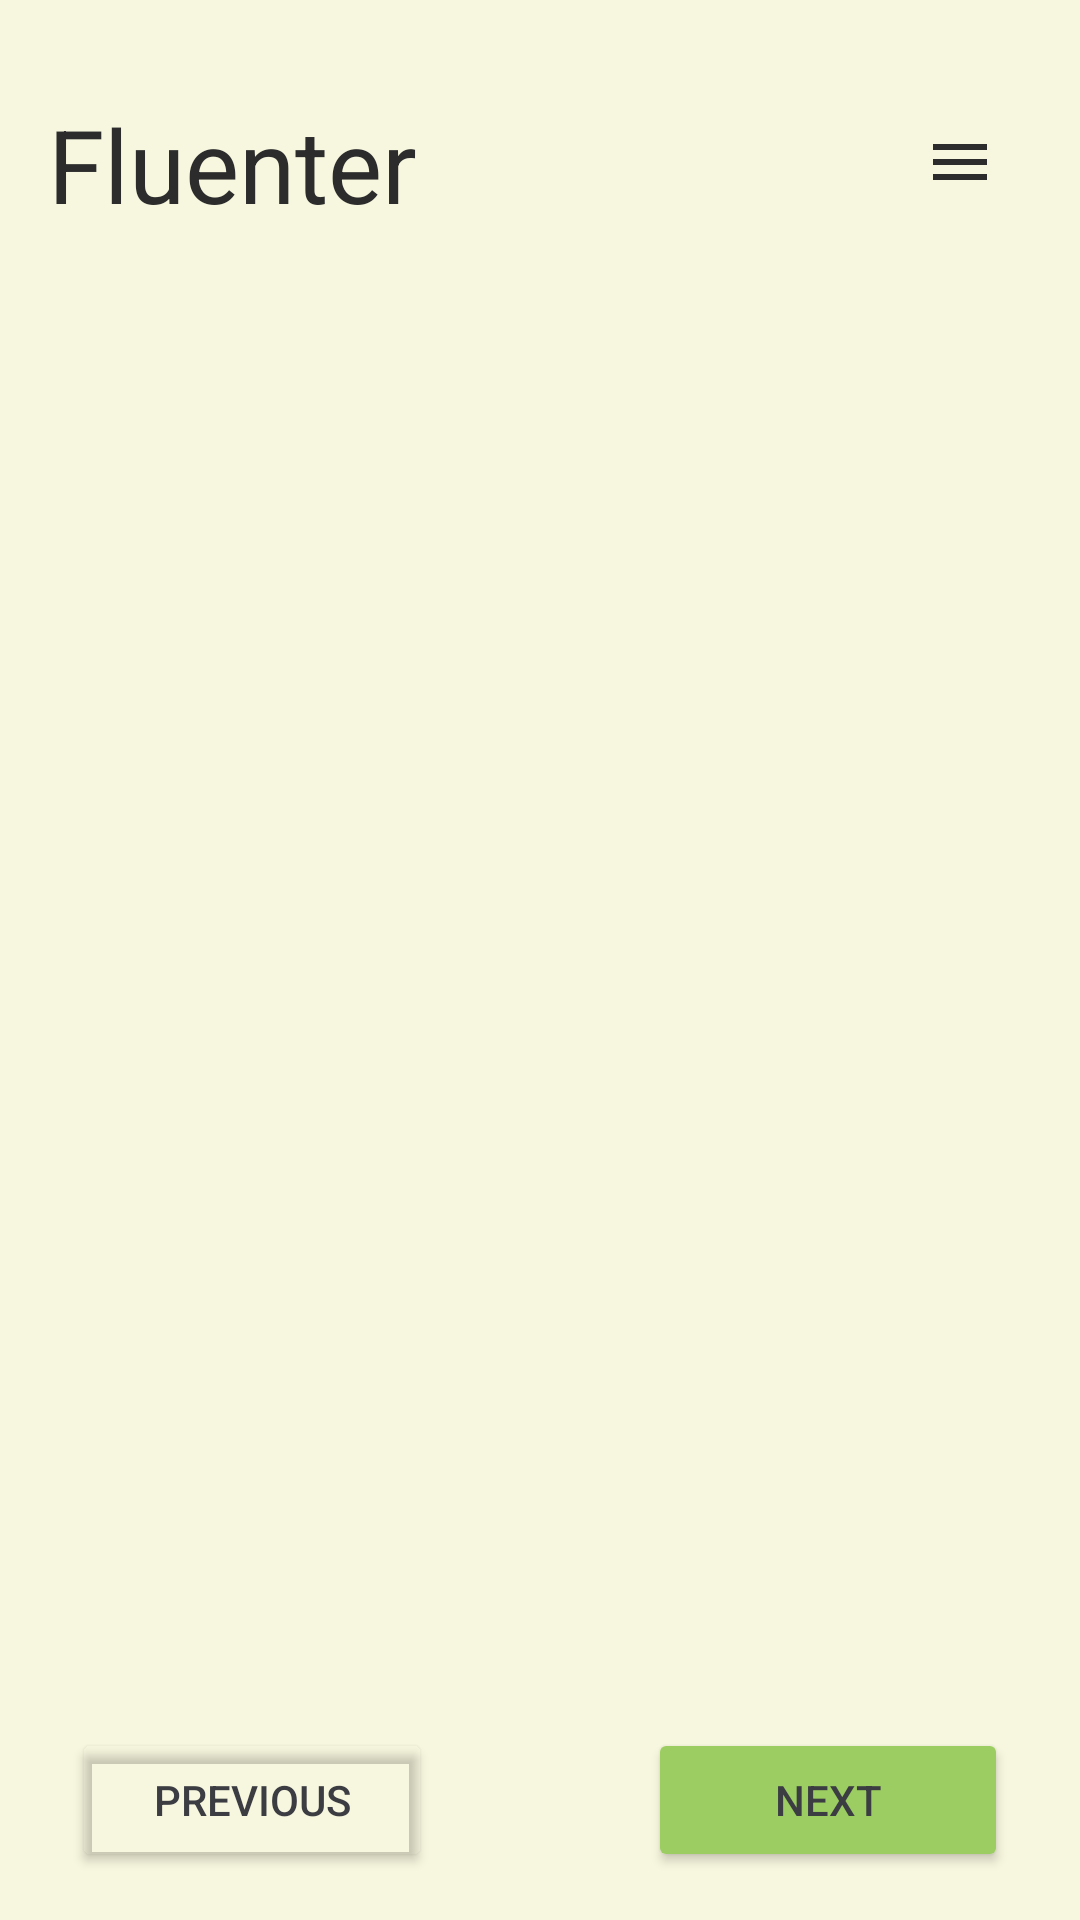

Icon bounding boxes for this 1080 x 1920 phone screenshot, format (x1, y1, x2, y2):
menu: (933, 144, 987, 180)
